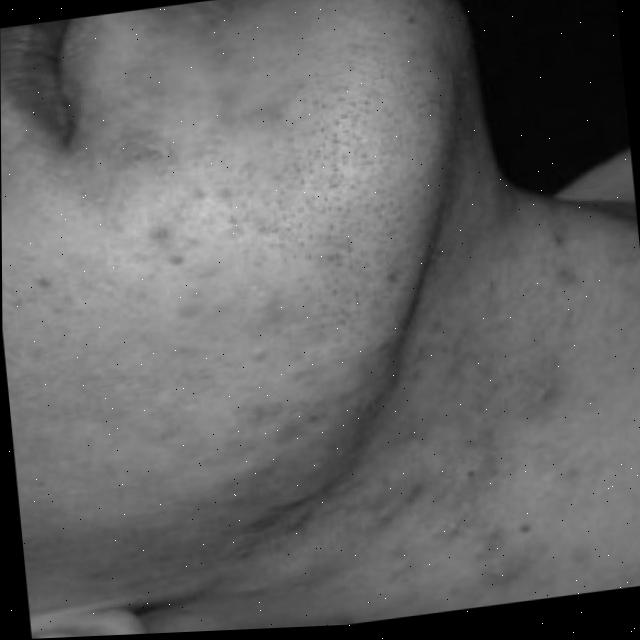Acne: (75, 94, 413, 542)
